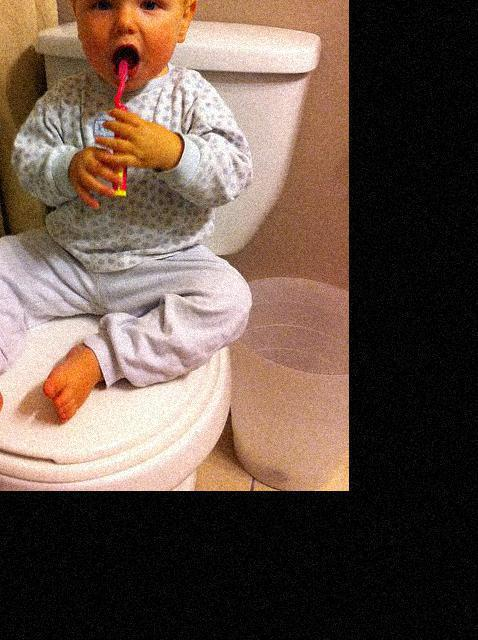Bote de Basura: (212, 274, 348, 490)
Sanitario: (0, 25, 323, 489)
